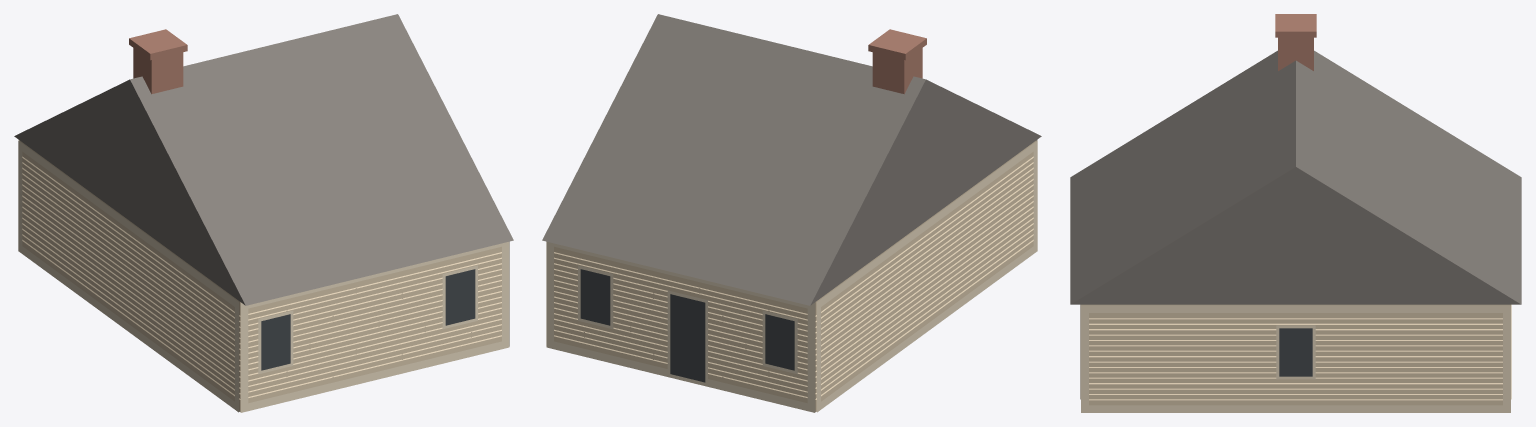
Rendered from recon_1835_north_d5_026__inferred_1835.glb.
3 views of the same model, side by side, from view 1: azimuth 30°, elevation 25°; view 2: azimuth 150°, elevation 25°; view 3: azimuth 270°, elevation 25° (orthographic). The views are drawn at different scales.
Parts seen in each view (by area): view 1: recon_1835_north_d5_026__inferred_1835; view 2: recon_1835_north_d5_026__inferred_1835; view 3: recon_1835_north_d5_026__inferred_1835.
Part boxes in pixels (x1,y1,x2,y2): recon_1835_north_d5_026__inferred_1835: (14,14,513,412); recon_1835_north_d5_026__inferred_1835: (542,14,1041,412); recon_1835_north_d5_026__inferred_1835: (1070,14,1521,412).
Size of the model in its own units: 7.17 by 7.15 by 10.61.
